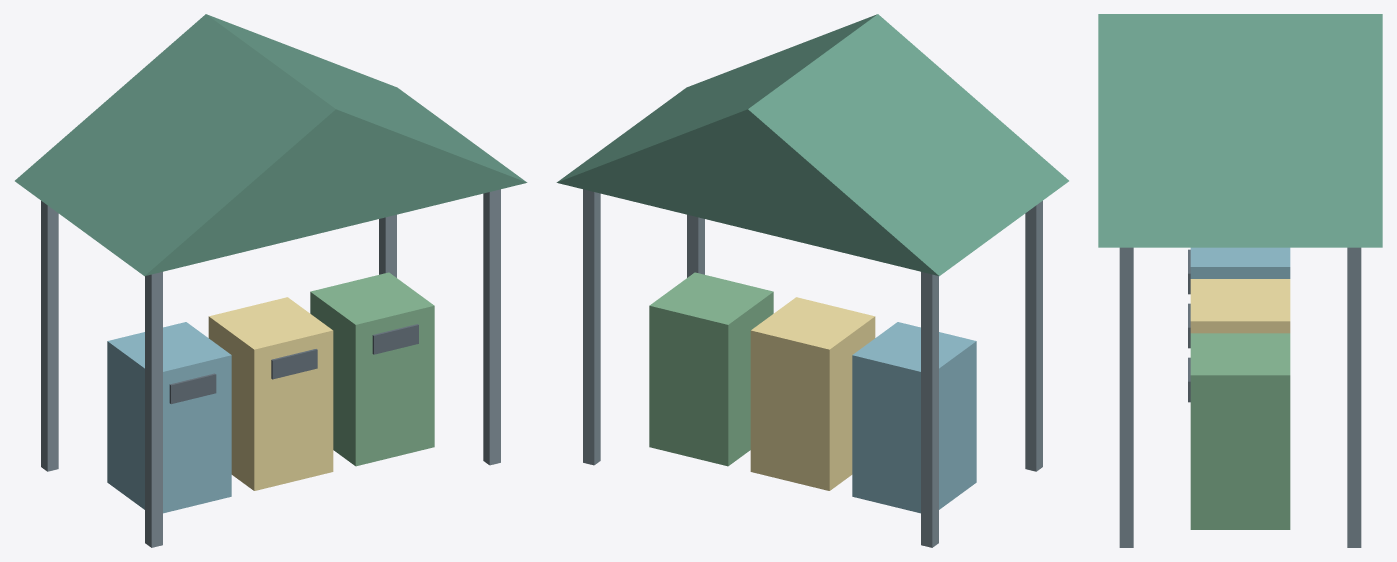
Rendered from recycling_shelter.glb.
3 views of the same model, side by side, from view 1: azimuth 30°, elevation 25°; view 2: azimuth 150°, elevation 25°; view 3: azimuth 270°, elevation 25° (orthographic). The views are drawn at different scales.
Visible parts, largest first — view 1: recycling_shelter_004, recycling_shelter_007, recycling_shelter_009, recycling_shelter_005, recycling_shelter_000, recycling_shelter_002, recycling_shelter_001, recycling_shelter_003, recycling_shelter_006, recycling_shelter_010, recycling_shelter_008; view 2: recycling_shelter_004, recycling_shelter_007, recycling_shelter_009, recycling_shelter_005, recycling_shelter_001, recycling_shelter_003, recycling_shelter_000, recycling_shelter_002; view 3: recycling_shelter_004, recycling_shelter_009, recycling_shelter_007, recycling_shelter_002, recycling_shelter_003, recycling_shelter_005.
Part boxes in pixels (x1,y1,x2,y2): recycling_shelter_004: (15,14,527,276); recycling_shelter_007: (208,297,333,490); recycling_shelter_009: (310,272,434,466); recycling_shelter_005: (107,322,231,513); recycling_shelter_000: (145,272,162,547); recycling_shelter_002: (483,189,500,465); recycling_shelter_001: (41,201,58,471); recycling_shelter_003: (379,214,396,277); recycling_shelter_006: (169,373,216,404); recycling_shelter_010: (372,324,418,354); recycling_shelter_008: (271,349,317,379); recycling_shelter_004: (556,14,1068,276); recycling_shelter_007: (750,297,875,490); recycling_shelter_009: (649,272,773,466); recycling_shelter_005: (852,322,976,513); recycling_shelter_001: (921,272,938,547); recycling_shelter_003: (583,189,600,465); recycling_shelter_000: (1025,201,1042,471); recycling_shelter_002: (687,214,704,277); recycling_shelter_004: (1098,14,1382,247); recycling_shelter_009: (1190,333,1290,529); recycling_shelter_007: (1190,279,1290,333); recycling_shelter_002: (1119,247,1133,547); recycling_shelter_003: (1347,247,1361,547); recycling_shelter_005: (1190,247,1290,278).
Bounding box in the file's own units: 3.4 × 3.42 × 2.
